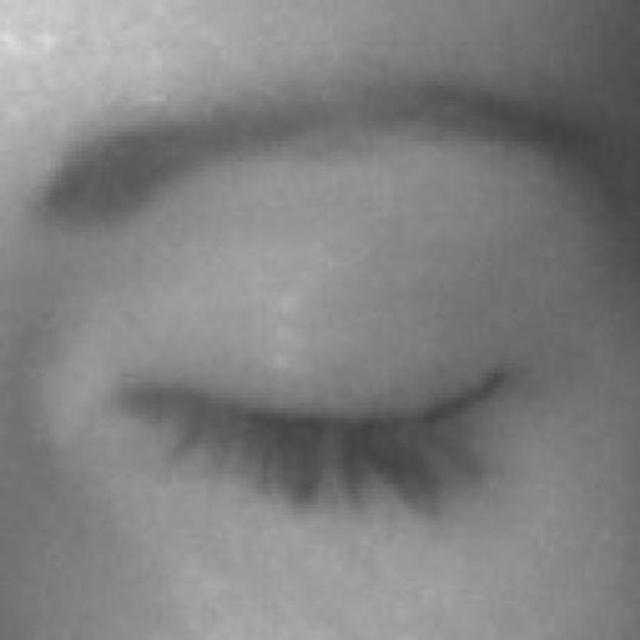drowsy: (107, 218, 504, 636)
